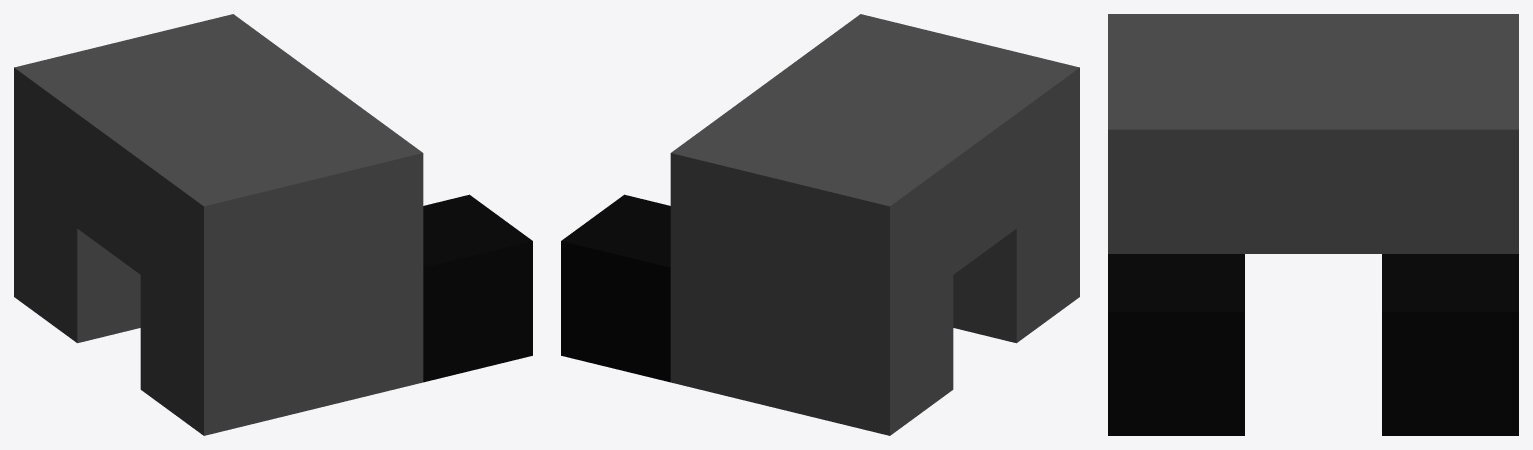
File: player_feet_s-09.obj
3 views of the same model, side by side, from view 1: azimuth 30°, elevation 25°; view 2: azimuth 150°, elevation 25°; view 3: azimuth 270°, elevation 25° (orthographic). The views are drawn at different scales.
Bounding box in the file's own units: 3 × 2 × 3.
Materials: 1 (1 with a texture image).
